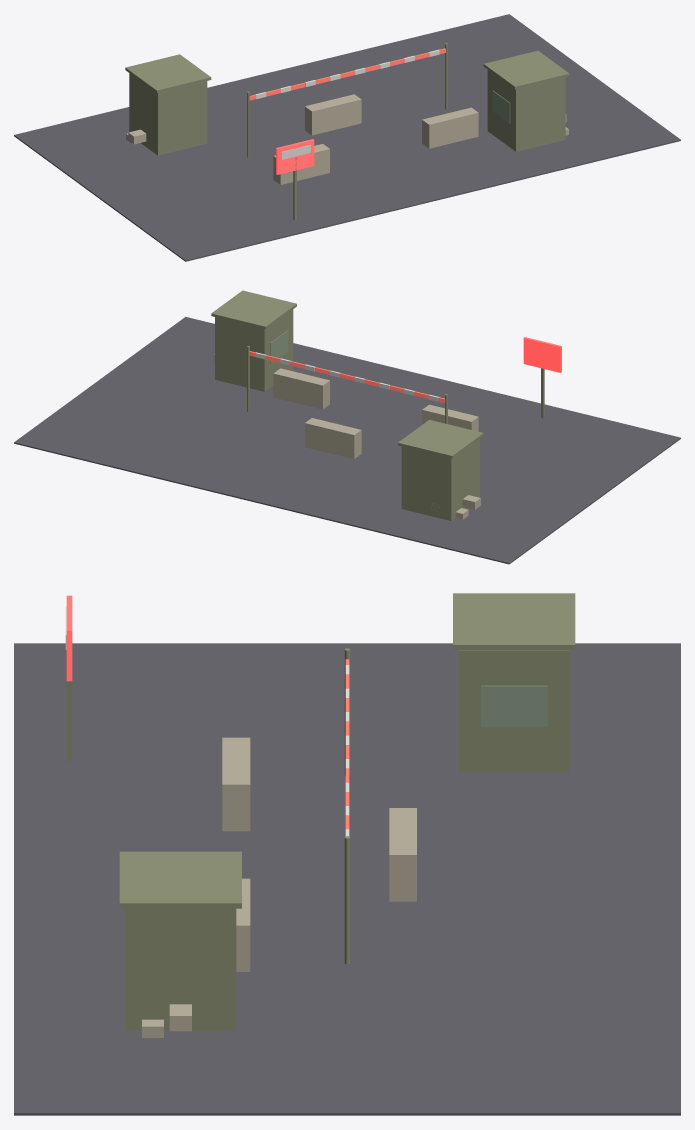
File: military_checkpoint.glb
3 renders of one model, top to bottom at view 1: azimuth 30°, elevation 25°; view 2: azimuth 150°, elevation 25°; view 3: azimuth 270°, elevation 25°, orthographic. The views are drawn at different scales.
Visible parts, largest first — view 1: road, booth_r, booth_l, booth_r_roof, booth_l_roof, jersey_2, jersey_3, jersey_1, sign_board, gate_arm, booth_r_win; view 2: road, booth_l, booth_r, booth_l_roof, booth_r_roof, jersey_3, jersey_2, sign_board, jersey_1, gate_arm; view 3: road, booth_l, booth_r, booth_r_roof, booth_l_roof, booth_l_win, jersey_1, jersey_2, jersey_3, gate_pole_r.
Boxes of the visible parts, box(x1,y1,x2,y2) form: road: box(14, 14, 680, 261); booth_r: box(487, 70, 565, 151); booth_l: box(129, 73, 207, 155); booth_r_roof: box(483, 50, 569, 89); booth_l_roof: box(125, 54, 211, 92); jersey_2: box(305, 94, 361, 135); jersey_3: box(422, 107, 478, 148); jersey_1: box(273, 144, 329, 184); sign_board: box(276, 139, 314, 174); gate_arm: box(249, 48, 445, 100); booth_r_win: box(492, 90, 510, 123); road: box(14, 317, 680, 564); booth_l: box(401, 438, 479, 520); booth_r: box(215, 309, 293, 391); booth_l_roof: box(398, 420, 483, 458); booth_r_roof: box(211, 290, 296, 329); jersey_3: box(273, 368, 329, 409); jersey_2: box(305, 418, 361, 458); sign_board: box(523, 337, 561, 372); jersey_1: box(422, 404, 478, 431); gate_arm: box(249, 351, 445, 403); road: box(14, 643, 680, 1115); booth_l: box(458, 650, 569, 772); booth_r: box(125, 908, 236, 1030); booth_r_roof: box(119, 851, 241, 908); booth_l_roof: box(453, 593, 575, 649); booth_l_win: box(481, 685, 547, 726); jersey_1: box(222, 737, 250, 831); jersey_2: box(389, 808, 416, 901); jersey_3: box(236, 878, 250, 971); gate_pole_r: box(344, 836, 350, 964).
Size of the model in its own units: 20 by 3 by 12.
